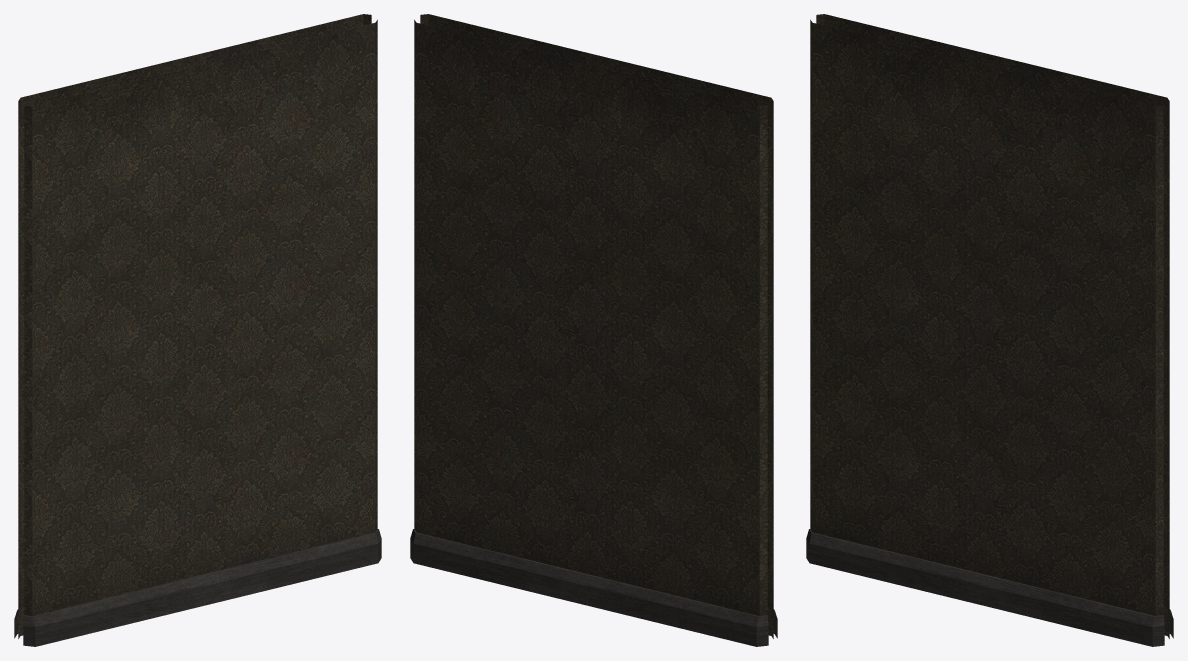
The model's file is wall_1_2_half.glb.
The picture shows the model from 3 angles, left to right: view 1: azimuth 30°, elevation 25°; view 2: azimuth 150°, elevation 25°; view 3: azimuth 330°, elevation 25°; orthographic projection.
Visible parts, largest first — view 1: wall_1_2_half; view 2: wall_1_2_half; view 3: wall_1_2_half.
Boxes of the visible parts, x1,y1,x2,y2 form: wall_1_2_half: (14, 14, 381, 646); wall_1_2_half: (410, 14, 777, 646); wall_1_2_half: (806, 14, 1173, 646).
Bounding box in the file's own units: 2.09 × 3 × 0.18.
2 materials, 2 textured.
